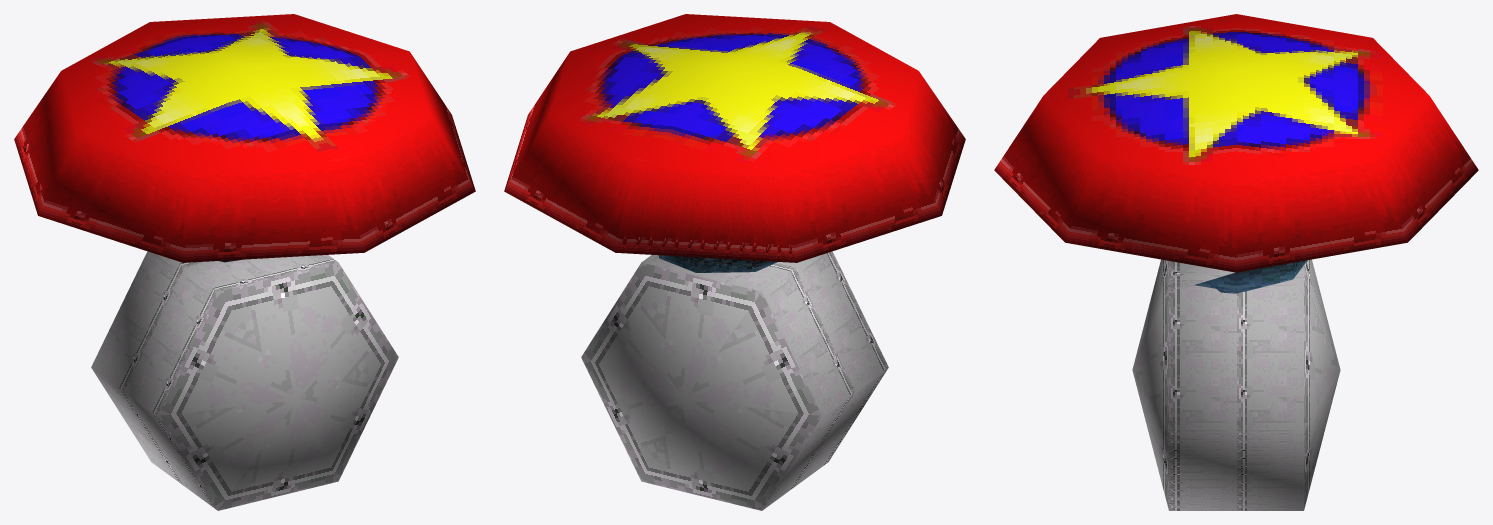
File: airspring.obj
The picture shows the model from 3 angles, left to right: view 1: azimuth 30°, elevation 25°; view 2: azimuth 150°, elevation 25°; view 3: azimuth 270°, elevation 25°; orthographic projection.
Parts seen in each view (by area): view 1: object_004B54C4, object_004B5C3C; view 2: object_004B54C4, object_004B5C3C, object_004B5924; view 3: object_004B54C4, object_004B5C3C, object_004B5924.
Part boxes in pixels (box(x1,y1,x2,y2)): object_004B54C4: box(14, 14, 475, 262); object_004B5C3C: box(91, 251, 398, 510); object_004B54C4: box(504, 14, 965, 262); object_004B5C3C: box(581, 251, 888, 510); object_004B5924: box(659, 255, 777, 272); object_004B54C4: box(994, 14, 1478, 272); object_004B5C3C: box(1132, 259, 1340, 510); object_004B5924: box(1194, 260, 1307, 293).
Size of the model in its own units: 21.78 by 20.34 by 21.78.
5 materials, 5 textured.
